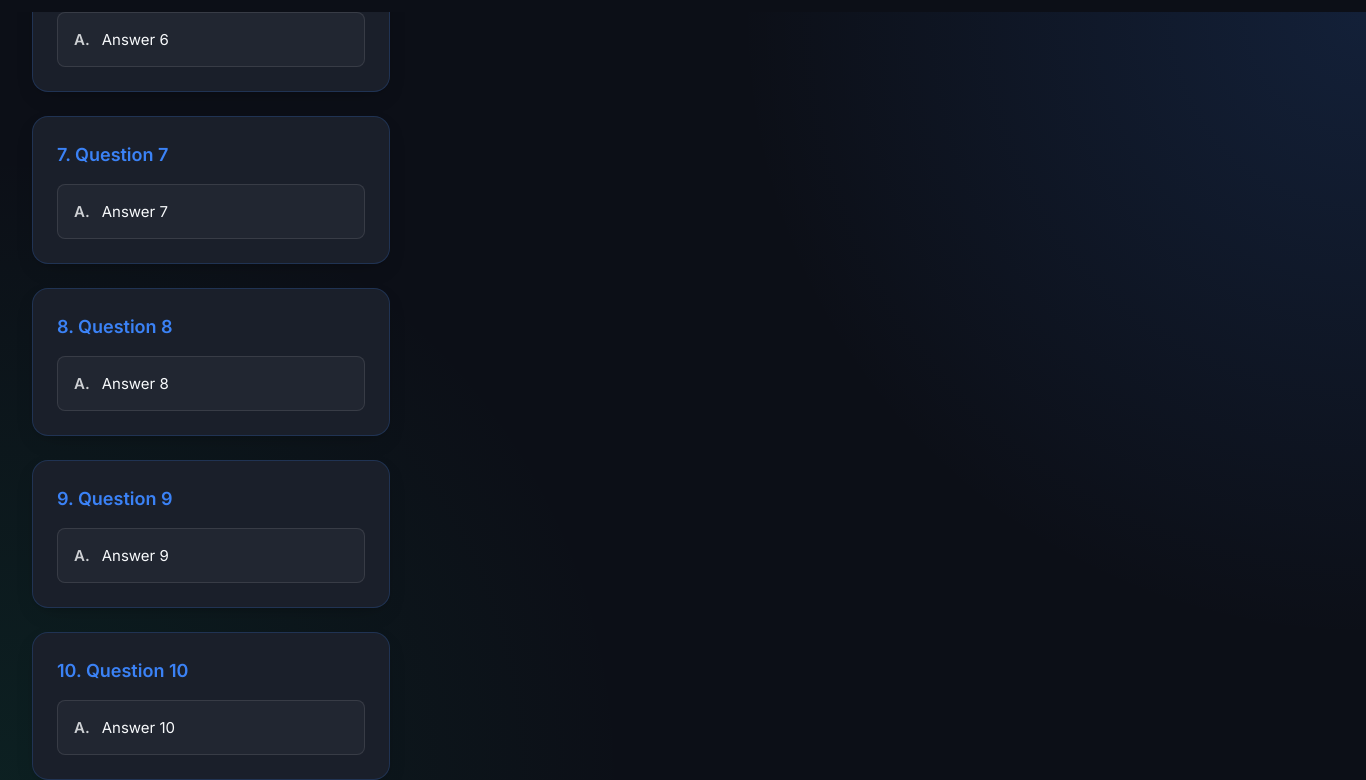
Test case: QuizViewer › reveals and navigates to the next lazy-loaded question
The image size is (1366, 780).
(page scrolled)
Expected: the text "11. Question 11" is not shown
Click the text "Answer 10". click: (138, 727)
box: [102, 717, 175, 738]
(page scrolled)
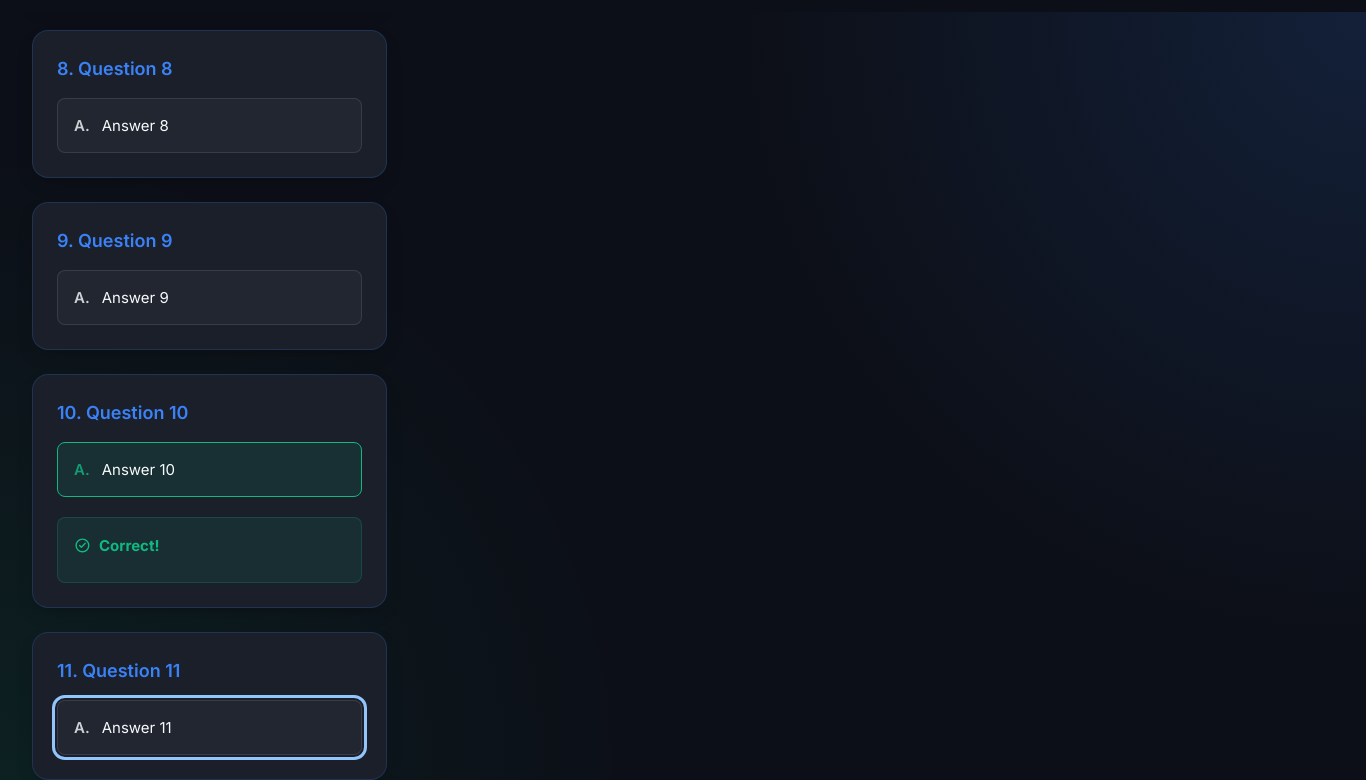
Expected: the heading "11. Question 11" is shown, [57, 660, 180, 681]
